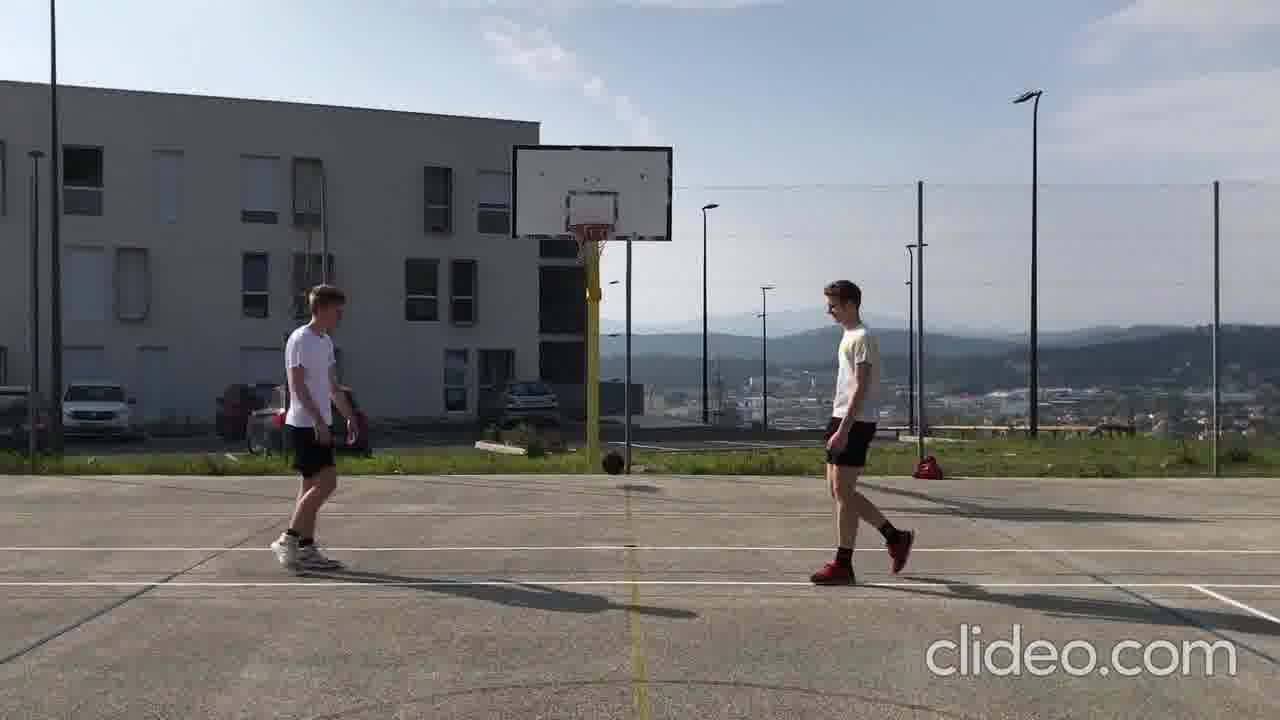jugador: (792, 269, 927, 601)
